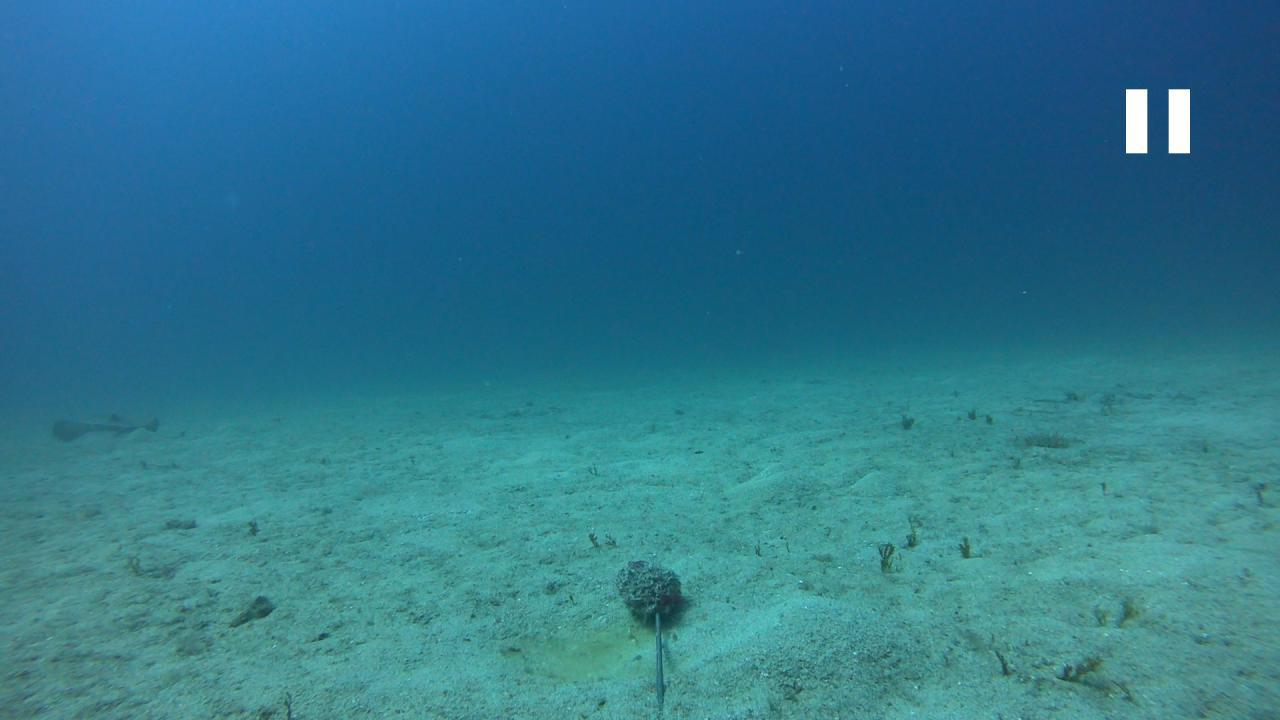dasyatis: (49, 413, 160, 442)
